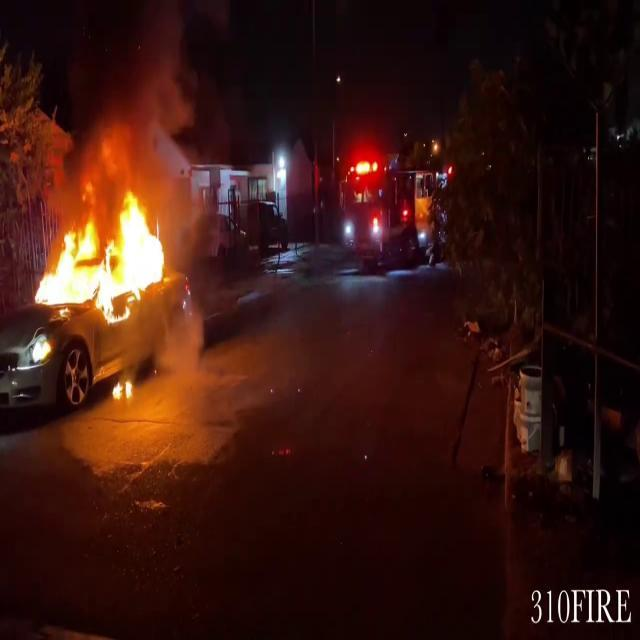Fire: (28, 180, 176, 322), (108, 370, 134, 404)
Smoke: (70, 7, 208, 213)
